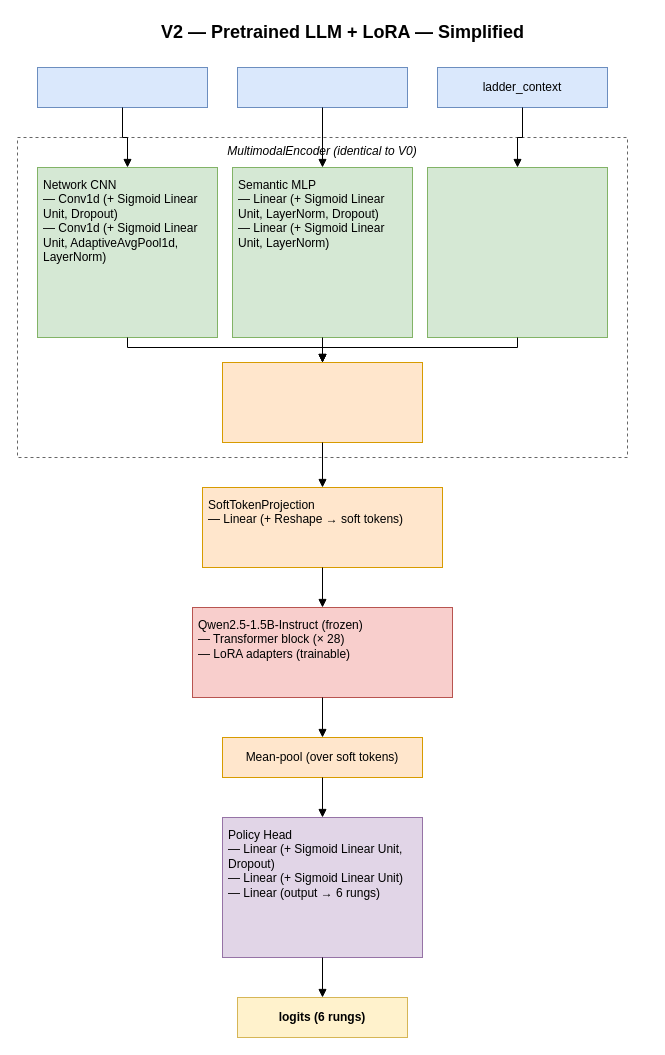
Image size: 665x1055. Some labels were removed from this diagram. The shapes that lost their labels are listed below. From the top down, each one's box as (x1, y1, x2, y2) in pixels, then its label:
(36, 66, 208, 108): network_norm
(236, 66, 408, 108): semantic_norm
(426, 166, 608, 338): Ladder Proj — Linear (+ Sigmoid Linear Unit, Mean over rungs)
(222, 362, 422, 442): Fuse — Linear (+ Concat of branch outputs)
